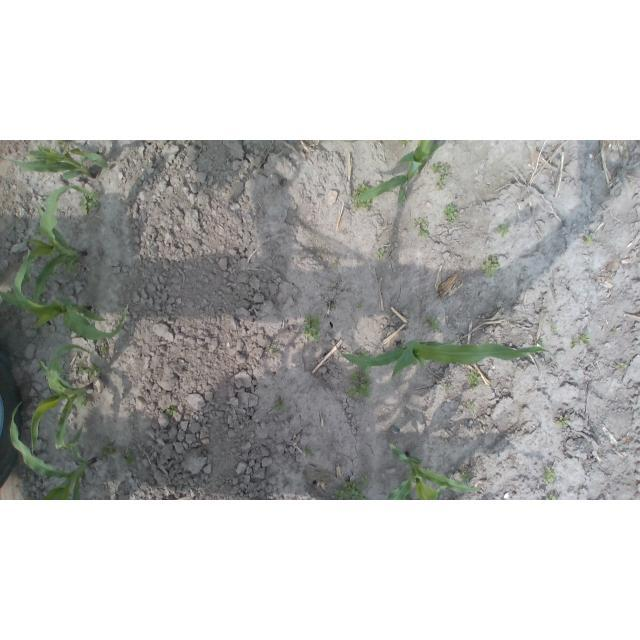Maize: (0, 256, 128, 341), (21, 182, 92, 330), (332, 339, 557, 381), (9, 401, 94, 500), (29, 344, 95, 452), (346, 140, 445, 204), (383, 443, 481, 500), (0, 140, 108, 182)
Weeds: (346, 365, 372, 399), (352, 184, 373, 213), (334, 481, 366, 500), (430, 162, 450, 191), (80, 189, 101, 215), (302, 313, 320, 341), (481, 255, 499, 278), (412, 217, 429, 238), (423, 316, 442, 333), (444, 203, 458, 225), (541, 465, 556, 483), (467, 371, 481, 390), (496, 221, 510, 238), (100, 443, 116, 457), (84, 364, 100, 377), (555, 415, 570, 428), (124, 452, 137, 466), (301, 446, 315, 458), (54, 141, 68, 152), (533, 339, 543, 354), (165, 405, 178, 416), (375, 248, 386, 261), (274, 402, 288, 412), (583, 232, 594, 244), (546, 492, 562, 500), (579, 332, 589, 344), (31, 225, 41, 236), (461, 470, 470, 482), (78, 359, 85, 374), (570, 335, 578, 348), (616, 362, 629, 370), (466, 402, 477, 411), (70, 259, 78, 271), (266, 346, 278, 354), (550, 323, 559, 333), (99, 344, 107, 355), (361, 475, 371, 483), (441, 385, 451, 392), (398, 140, 411, 145), (24, 281, 33, 288), (357, 351, 369, 356), (610, 327, 618, 334), (81, 401, 86, 409), (357, 302, 362, 309), (332, 260, 338, 264), (105, 167, 111, 171), (36, 256, 40, 260)
